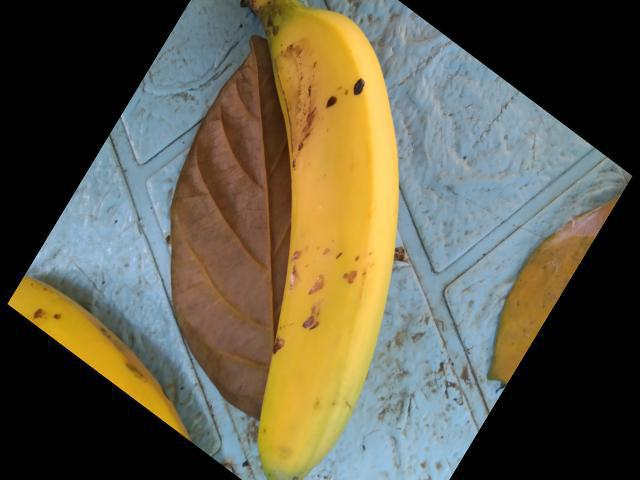ripe: (225, 13, 468, 479)
